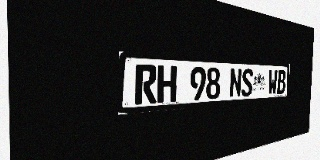8: (206, 67, 221, 99)
9: (190, 66, 206, 101)
B: (277, 70, 286, 94)
H: (157, 65, 177, 103)
N: (229, 68, 242, 98)
R: (135, 64, 157, 105)
S: (241, 68, 253, 97)
W: (268, 69, 278, 95)
